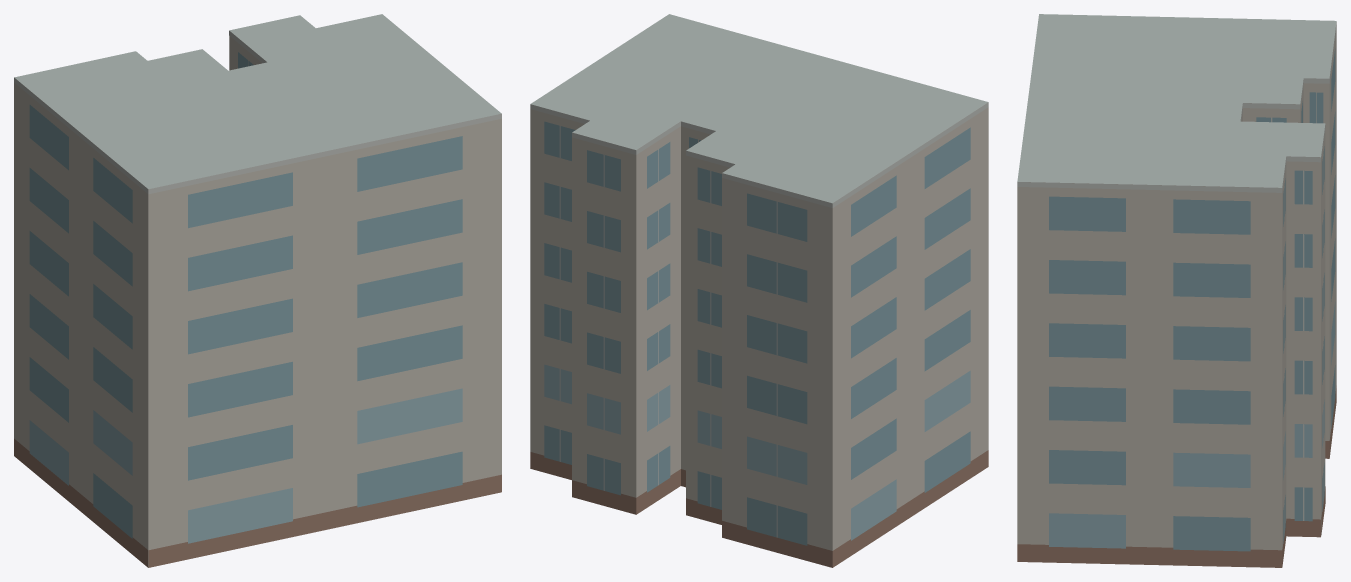
File: survey-upis-32798739.glb
The picture shows the model from 3 angles, left to right: view 1: azimuth 30°, elevation 25°; view 2: azimuth 150°, elevation 25°; view 3: azimuth 270°, elevation 25°; orthographic projection. The views are drawn at different scales.
Visible parts, largest first — view 1: survey-upis-32798739.tmp; view 2: survey-upis-32798739.tmp; view 3: survey-upis-32798739.tmp.
Boxes of the visible parts, x1,y1,x2,y2 form: survey-upis-32798739.tmp: (14,14,501,567); survey-upis-32798739.tmp: (530,14,988,567); survey-upis-32798739.tmp: (1017,14,1336,567).
Bounding box in the file's own units: 17.97 × 18.3 × 13.95.
